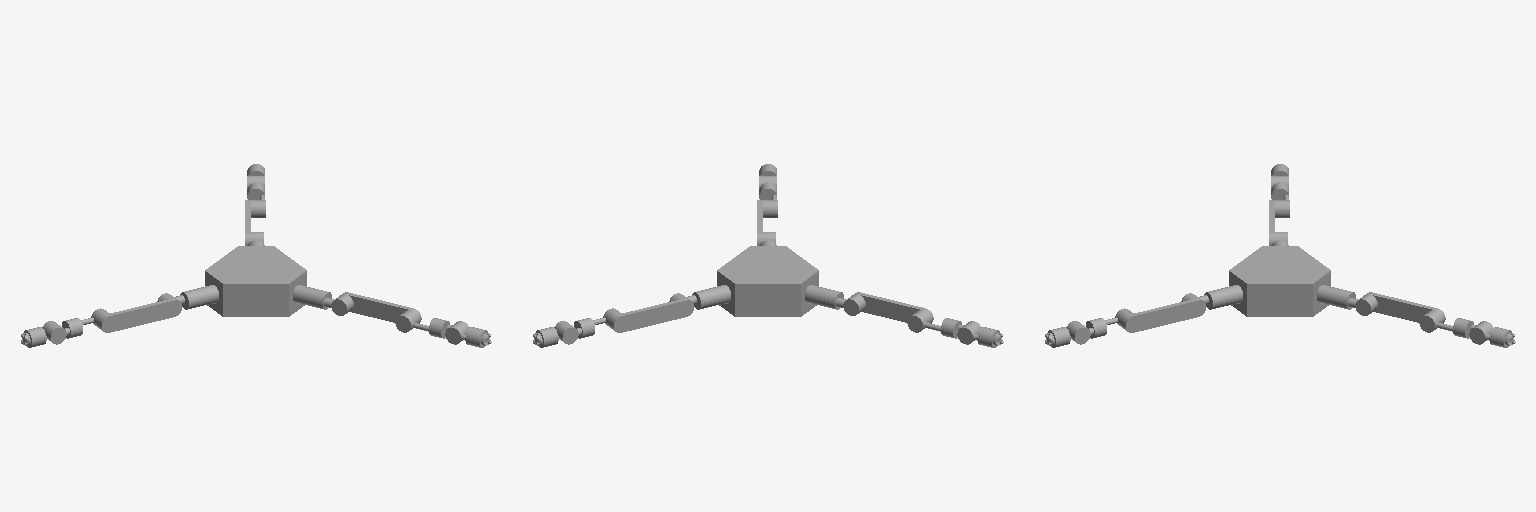
--- What the picture shows (computed from the rendered views, not written in the file) ---
Views: 3 orthographic renders of the robot side by side, from view 1: azimuth 30°, elevation 25°; view 2: azimuth 150°, elevation 25°; view 3: azimuth 270°, elevation 25°.
Model simplified_df_bot with 23 links and 22 joints (18 revolute, 4 fixed), rooted at dummy_link, posed all joints at 0.
Links seen in each view (by area): view 1: base_link, link_02_1, link_02__1__1, link_03__1__1, link_01__1__1; view 2: base_link, link_02__2__1, link_02_1, link_03_1, link_01_1; view 3: base_link, link_02__1__1, link_02__2__1, link_03__2__1, link_01__2__1.
Link boxes in pixels (x1=…): base_link: x1=205, y1=246, x2=306, y2=316; link_02_1: x1=97, y1=297, x2=181, y2=332; link_02__1__1: x1=340, y1=292, x2=421, y2=323; link_03__1__1: x1=395, y1=312, x2=441, y2=336; link_01__1__1: x1=318, y1=291, x2=351, y2=315; base_link: x1=717, y1=246, x2=818, y2=316; link_02__2__1: x1=609, y1=297, x2=693, y2=332; link_02_1: x1=852, y1=292, x2=933, y2=323; link_03_1: x1=907, y1=312, x2=953, y2=336; link_01_1: x1=830, y1=291, x2=863, y2=315; base_link: x1=1229, y1=246, x2=1330, y2=316; link_02__1__1: x1=1121, y1=297, x2=1205, y2=332; link_02__2__1: x1=1364, y1=292, x2=1445, y2=323; link_03__2__1: x1=1419, y1=312, x2=1465, y2=336; link_01__2__1: x1=1342, y1=291, x2=1375, y2=315.
Bounding box of the posed robot: 2.24 × 2.58 × 0.2 m (x, y, z).
Meshes: 22 distinct files referenced, 22 mesh visuals loaded (22 binary STL).

The robot description file, URDF, robot "simplified_df_bot":
<?xml version="1.0" ?>
<!-- =================================================================================== -->
<!-- |    This document was autogenerated by xacro from [local-path]/irp_ws/src/simplified_df_bot_description/urdf/simplified_df_bot.xacro | -->
<!-- |    EDITING THIS FILE BY HAND IS NOT RECOMMENDED                                 | -->
<!-- =================================================================================== -->
<robot name="simplified_df_bot">
    <material name="silver">
        <color rgba="0.700 0.700 0.700 1.000" />
    </material>
    <transmission name="arm_01_joint_01_tran">
        <type>transmission_interface/SimpleTransmission</type>
        <joint name="arm_01_joint_01">
            <hardwareInterface>hardware_interface/PositionJointInterface</hardwareInterface>
        </joint>
        <actuator name="arm_01_joint_01_actr">
            <hardwareInterface>hardware_interface/PositionJointInterface</hardwareInterface>
            <mechanicalReduction>1</mechanicalReduction>
        </actuator>
    </transmission>
    <transmission name="arm_01_joint_03_tran">
        <type>transmission_interface/SimpleTransmission</type>
        <joint name="arm_01_joint_03">
            <hardwareInterface>hardware_interface/PositionJointInterface</hardwareInterface>
        </joint>
        <actuator name="arm_01_joint_03_actr">
            <hardwareInterface>hardware_interface/PositionJointInterface</hardwareInterface>
            <mechanicalReduction>1</mechanicalReduction>
        </actuator>
    </transmission>
    <transmission name="arm_01_joint_04_tran">
        <type>transmission_interface/SimpleTransmission</type>
        <joint name="arm_01_joint_04">
            <hardwareInterface>hardware_interface/PositionJointInterface</hardwareInterface>
        </joint>
        <actuator name="arm_01_joint_04_actr">
            <hardwareInterface>hardware_interface/PositionJointInterface</hardwareInterface>
            <mechanicalReduction>1</mechanicalReduction>
        </actuator>
    </transmission>
    <transmission name="arm_01_joint_05_tran">
        <type>transmission_interface/SimpleTransmission</type>
        <joint name="arm_01_joint_05">
            <hardwareInterface>hardware_interface/PositionJointInterface</hardwareInterface>
        </joint>
        <actuator name="arm_01_joint_05_actr">
            <hardwareInterface>hardware_interface/PositionJointInterface</hardwareInterface>
            <mechanicalReduction>1</mechanicalReduction>
        </actuator>
    </transmission>
    <transmission name="arm_01_joint_06_tran">
        <type>transmission_interface/SimpleTransmission</type>
        <joint name="arm_01_joint_06">
            <hardwareInterface>hardware_interface/PositionJointInterface</hardwareInterface>
        </joint>
        <actuator name="arm_01_joint_06_actr">
            <hardwareInterface>hardware_interface/PositionJointInterface</hardwareInterface>
            <mechanicalReduction>1</mechanicalReduction>
        </actuator>
    </transmission>
    <transmission name="arm_01_joint_02_tran">
        <type>transmission_interface/SimpleTransmission</type>
        <joint name="arm_01_joint_02">
            <hardwareInterface>hardware_interface/PositionJointInterface</hardwareInterface>
        </joint>
        <actuator name="arm_01_joint_02_actr">
            <hardwareInterface>hardware_interface/PositionJointInterface</hardwareInterface>
            <mechanicalReduction>1</mechanicalReduction>
        </actuator>
    </transmission>
    <!-- this part is new -->
    <!-- <transmission name="arm_01_joint_01_tran">
  <type>transmission_interface/SimpleTransmission</type>
  <joint name="arm_01_joint_01">
    <hardwareInterface>hardware_interface/EffortJointInterface</hardwareInterface>
  </joint>
  <actuator name="arm_01_joint_01_actr">
    <hardwareInterface>hardware_interface/EffortJointInterface</hardwareInterface>
    <mechanicalReduction>1</mechanicalReduction>
  </actuator>
</transmission>

<transmission name="arm_01_joint_03_tran">
  <type>transmission_interface/SimpleTransmission</type>
  <joint name="arm_01_joint_03">
    <hardwareInterface>hardware_interface/EffortJointInterface</hardwareInterface>
  </joint>
  <actuator name="arm_01_joint_03_actr">
    <hardwareInterface>hardware_interface/EffortJointInterface</hardwareInterface>
    <mechanicalReduction>1</mechanicalReduction>
  </actuator>
</transmission>

<transmission name="arm_01_joint_04_tran">
  <type>transmission_interface/SimpleTransmission</type>
  <joint name="arm_01_joint_04">
    <hardwareInterface>hardware_interface/EffortJointInterface</hardwareInterface>
  </joint>
  <actuator name="arm_01_joint_04_actr">
    <hardwareInterface>hardware_interface/EffortJointInterface</hardwareInterface>
    <mechanicalReduction>1</mechanicalReduction>
  </actuator>
</transmission>

<transmission name="arm_01_joint_05_tran">
  <type>transmission_interface/SimpleTransmission</type>
  <joint name="arm_01_joint_05">
    <hardwareInterface>hardware_interface/EffortJointInterface</hardwareInterface>
  </joint>
  <actuator name="arm_01_joint_05_actr">
    <hardwareInterface>hardware_interface/EffortJointInterface</hardwareInterface>
    <mechanicalReduction>1</mechanicalReduction>
  </actuator>
</transmission>

<transmission name="arm_01_joint_06_tran">
  <type>transmission_interface/SimpleTransmission</type>
  <joint name="arm_01_joint_06">
    <hardwareInterface>hardware_interface/EffortJointInterface</hardwareInterface>
  </joint>
  <actuator name="arm_01_joint_06_actr">
    <hardwareInterface>hardware_interface/EffortJointInterface</hardwareInterface>
    <mechanicalReduction>1</mechanicalReduction>
  </actuator>
</transmission>

<transmission name="arm_01_joint_02_tran">
  <type>transmission_interface/SimpleTransmission</type>
  <joint name="arm_01_joint_02">
    <hardwareInterface>hardware_interface/EffortJointInterface</hardwareInterface>
  </joint>
  <actuator name="arm_01_joint_02_actr">
    <hardwareInterface>hardware_interface/EffortJointInterface</hardwareInterface>
    <mechanicalReduction>1</mechanicalReduction>
  </actuator>
</transmission> -->
    <!-- till here is new -->
    <transmission name="arm_02_joint_01_tran">
        <type>transmission_interface/SimpleTransmission</type>
        <joint name="arm_02_joint_01">
            <hardwareInterface>hardware_interface/PositionJointInterface</hardwareInterface>
        </joint>
        <actuator name="arm_02_joint_01_actr">
            <hardwareInterface>hardware_interface/PositionJointInterface</hardwareInterface>
            <mechanicalReduction>1</mechanicalReduction>
        </actuator>
    </transmission>
    <transmission name="arm_02_joint_02_tran">
        <type>transmission_interface/SimpleTransmission</type>
        <joint name="arm_02_joint_02">
            <hardwareInterface>hardware_interface/PositionJointInterface</hardwareInterface>
        </joint>
        <actuator name="arm_02_joint_02_actr">
            <hardwareInterface>hardware_interface/PositionJointInterface</hardwareInterface>
            <mechanicalReduction>1</mechanicalReduction>
        </actuator>
    </transmission>
    <transmission name="arm_02_joint_03_tran">
        <type>transmission_interface/SimpleTransmission</type>
        <joint name="arm_02_joint_03">
            <hardwareInterface>hardware_interface/PositionJointInterface</hardwareInterface>
        </joint>
        <actuator name="arm_02_joint_03_actr">
            <hardwareInterface>hardware_interface/PositionJointInterface</hardwareInterface>
            <mechanicalReduction>1</mechanicalReduction>
        </actuator>
    </transmission>
    <transmission name="arm_02_joint_04_tran">
        <type>transmission_interface/SimpleTransmission</type>
        <joint name="arm_02_joint_04">
            <hardwareInterface>hardware_interface/PositionJointInterface</hardwareInterface>
        </joint>
        <actuator name="arm_02_joint_04_actr">
            <hardwareInterface>hardware_interface/PositionJointInterface</hardwareInterface>
            <mechanicalReduction>1</mechanicalReduction>
        </actuator>
    </transmission>
    <transmission name="arm_02_joint_05_tran">
        <type>transmission_interface/SimpleTransmission</type>
        <joint name="arm_02_joint_05">
            <hardwareInterface>hardware_interface/PositionJointInterface</hardwareInterface>
        </joint>
        <actuator name="arm_02_joint_05_actr">
            <hardwareInterface>hardware_interface/PositionJointInterface</hardwareInterface>
            <mechanicalReduction>1</mechanicalReduction>
        </actuator>
    </transmission>
    <transmission name="arm_02_joint_06_tran">
        <type>transmission_interface/SimpleTransmission</type>
        <joint name="arm_02_joint_06">
            <hardwareInterface>hardware_interface/PositionJointInterface</hardwareInterface>
        </joint>
        <actuator name="arm_02_joint_06_actr">
            <hardwareInterface>hardware_interface/PositionJointInterface</hardwareInterface>
            <mechanicalReduction>1</mechanicalReduction>
        </actuator>
    </transmission>
    <transmission name="arm_03_joint_01_tran">
        <type>transmission_interface/SimpleTransmission</type>
        <joint name="arm_03_joint_01">
            <hardwareInterface>hardware_interface/PositionJointInterface</hardwareInterface>
        </joint>
        <actuator name="arm_03_joint_01_actr">
            <hardwareInterface>hardware_interface/PositionJointInterface</hardwareInterface>
            <mechanicalReduction>1</mechanicalReduction>
        </actuator>
    </transmission>
    <transmission name="arm_03_joint_02_tran">
        <type>transmission_interface/SimpleTransmission</type>
        <joint name="arm_03_joint_02">
            <hardwareInterface>hardware_interface/PositionJointInterface</hardwareInterface>
        </joint>
        <actuator name="arm_03_joint_02_actr">
            <hardwareInterface>hardware_interface/PositionJointInterface</hardwareInterface>
            <mechanicalReduction>1</mechanicalReduction>
        </actuator>
    </transmission>
    <transmission name="arm_03_joint_03_tran">
        <type>transmission_interface/SimpleTransmission</type>
        <joint name="arm_03_joint_03">
            <hardwareInterface>hardware_interface/PositionJointInterface</hardwareInterface>
        </joint>
        <actuator name="arm_03_joint_03_actr">
            <hardwareInterface>hardware_interface/PositionJointInterface</hardwareInterface>
            <mechanicalReduction>1</mechanicalReduction>
        </actuator>
    </transmission>
    <transmission name="arm_03_joint_04_tran">
        <type>transmission_interface/SimpleTransmission</type>
        <joint name="arm_03_joint_04">
            <hardwareInterface>hardware_interface/PositionJointInterface</hardwareInterface>
        </joint>
        <actuator name="arm_03_joint_04_actr">
            <hardwareInterface>hardware_interface/PositionJointInterface</hardwareInterface>
            <mechanicalReduction>1</mechanicalReduction>
        </actuator>
    </transmission>
    <transmission name="arm_03_joint_05_tran">
        <type>transmission_interface/SimpleTransmission</type>
        <joint name="arm_03_joint_05">
            <hardwareInterface>hardware_interface/PositionJointInterface</hardwareInterface>
        </joint>
        <actuator name="arm_03_joint_05_actr">
            <hardwareInterface>hardware_interface/PositionJointInterface</hardwareInterface>
            <mechanicalReduction>1</mechanicalReduction>
        </actuator>
    </transmission>
    <transmission name="arm_03_joint_06_tran">
        <type>transmission_interface/SimpleTransmission</type>
        <joint name="arm_03_joint_06">
            <hardwareInterface>hardware_interface/PositionJointInterface</hardwareInterface>
        </joint>
        <actuator name="arm_03_joint_06_actr">
            <hardwareInterface>hardware_interface/PositionJointInterface</hardwareInterface>
            <mechanicalReduction>1</mechanicalReduction>
        </actuator>
    </transmission>
    <gazebo>
        <plugin filename="libgazebo_ros_control.so" name="control">
            <robotNamespace>/</robotNamespace>
        </plugin>
        <plugin name="gazebo_ros_control">
            <robotNamespace>/</robotNamespace>
        </plugin>
    </gazebo>
    <!-- <gazebo>
  <plugin name="control" filename="libgazebo_ros_control.so">
    <robotNamespace>/</robotNamespace>
    <robotSimType>gazebo_ros_control/DefaultRobotHWSim</robotSimType>
  </plugin>
</gazebo> -->
    <gazebo reference="base_link">
        <material>Gazebo/Silver</material>
        <mu1>0.2</mu1>
        <mu2>0.2</mu2>
        <selfCollide>true</selfCollide>
        <gravity>true</gravity>
    </gazebo>
    <gazebo reference="link_06_1">
        <material>Gazebo/Silver</material>
        <mu1>0.2</mu1>
        <mu2>0.2</mu2>
        <selfCollide>true</selfCollide>
    </gazebo>
    <gazebo reference="link_04_1">
        <material>Gazebo/Silver</material>
        <mu1>0.2</mu1>
        <mu2>0.2</mu2>
        <selfCollide>true</selfCollide>
    </gazebo>
    <gazebo reference="link_03_1">
        <material>Gazebo/Silver</material>
        <mu1>0.2</mu1>
        <mu2>0.2</mu2>
        <selfCollide>true</selfCollide>
    </gazebo>
    <gazebo reference="link_02_1">
        <material>Gazebo/Silver</material>
        <mu1>0.2</mu1>
        <mu2>0.2</mu2>
        <selfCollide>true</selfCollide>
    </gazebo>
    <gazebo reference="link_01_1">
        <material>Gazebo/Silver</material>
        <mu1>0.2</mu1>
        <mu2>0.2</mu2>
        <selfCollide>true</selfCollide>
    </gazebo>
    <gazebo reference="link_00_1">
        <material>Gazebo/Silver</material>
        <mu1>0.2</mu1>
        <mu2>0.2</mu2>
        <selfCollide>true</selfCollide>
    </gazebo>
    <gazebo reference="link_05_1">
        <material>Gazebo/Silver</material>
        <mu1>0.2</mu1>
        <mu2>0.2</mu2>
        <selfCollide>true</selfCollide>
    </gazebo>
    <gazebo reference="link_06__2__1">
        <material>Gazebo/Silver</material>
        <mu1>0.2</mu1>
        <mu2>0.2</mu2>
        <selfCollide>true</selfCollide>
    </gazebo>
    <gazebo reference="link_05__2__1">
        <material>Gazebo/Silver</material>
        <mu1>0.2</mu1>
        <mu2>0.2</mu2>
        <selfCollide>true</selfCollide>
    </gazebo>
    <gazebo reference="link_04__2__1">
        <material>Gazebo/Silver</material>
        <mu1>0.2</mu1>
        <mu2>0.2</mu2>
        <selfCollide>true</selfCollide>
    </gazebo>
    <gazebo reference="link_03__2__1">
        <material>Gazebo/Silver</material>
        <mu1>0.2</mu1>
        <mu2>0.2</mu2>
        <selfCollide>true</selfCollide>
    </gazebo>
    <gazebo reference="link_02__2__1">
        <material>Gazebo/Silver</material>
        <mu1>0.2</mu1>
        <mu2>0.2</mu2>
        <selfCollide>true</selfCollide>
    </gazebo>
    <gazebo reference="link_01__2__1">
        <material>Gazebo/Silver</material>
        <mu1>0.2</mu1>
        <mu2>0.2</mu2>
        <selfCollide>true</selfCollide>
    </gazebo>
    <gazebo reference="link_00__2__1">
        <material>Gazebo/Silver</material>
        <mu1>0.2</mu1>
        <mu2>0.2</mu2>
        <selfCollide>true</selfCollide>
    </gazebo>
    <gazebo reference="link_06__1__1">
        <material>Gazebo/Silver</material>
        <mu1>0.2</mu1>
        <mu2>0.2</mu2>
        <selfCollide>true</selfCollide>
    </gazebo>
    <gazebo reference="link_05__1__1">
        <material>Gazebo/Silver</material>
        <mu1>0.2</mu1>
        <mu2>0.2</mu2>
        <selfCollide>true</selfCollide>
    </gazebo>
    <gazebo reference="link_04__1__1">
        <material>Gazebo/Silver</material>
        <mu1>0.2</mu1>
        <mu2>0.2</mu2>
        <selfCollide>true</selfCollide>
    </gazebo>
    <gazebo reference="link_03__1__1">
        <material>Gazebo/Silver</material>
        <mu1>0.2</mu1>
        <mu2>0.2</mu2>
        <selfCollide>true</selfCollide>
    </gazebo>
    <gazebo reference="link_02__1__1">
        <material>Gazebo/Silver</material>
        <mu1>0.2</mu1>
        <mu2>0.2</mu2>
        <selfCollide>true</selfCollide>
    </gazebo>
    <gazebo reference="link_01__1__1">
        <material>Gazebo/Silver</material>
        <mu1>0.2</mu1>
        <mu2>0.2</mu2>
        <selfCollide>true</selfCollide>
    </gazebo>
    <gazebo reference="link_00__1__1">
        <material>Gazebo/Silver</material>
        <mu1>0.2</mu1>
        <mu2>0.2</mu2>
        <selfCollide>true</selfCollide>
    </gazebo>
    <!-- <link name="world" >
  <joint name="base_joint" type="fixed">
    <parent link="world"/>
    <child link="base_link"/>
    <origin rpy="0 0 0" xyz="0.0 0.0 0.0"/>
  </joint> -->
    <!--  -->
    <link name="dummy_link">
        <visual>
            <geometry>
                <!-- <sphere radius="0.1"/> -->
            </geometry>
        </visual>
        <collision>
            <geometry>
                <cylinder length="0.05" radius="0.1" />
            </geometry>
        </collision>
        <inertial>
            <mass value="0.1" />
            <origin xyz="0 0 0" rpy="0 0 0" />
            <inertia ixx="0.03" iyy="0.03" izz="0.03" ixy="0.0" ixz="0.0" iyz="0.0" />
        </inertial>
    </link>
    <!-- <joint name="dummy_joint" type="fixed">
  <origin rpy="0 0 0" xyz="0.0 0.0 0.0"/>
  <parent link="world"/>
  <child link="dummy_link"/>
</joint> -->
    <!--  -->
    <link name="base_link">
        <inertial>
            <origin rpy="0 0 0" xyz="5.882906319182324e-17 1.7648718957546974e-16 0.1" />
            <mass value="20.0" />
            <inertia ixx="0.0" ixy="0.0" ixz="0.0" iyy="0.0" iyz="0.0" izz="0.0" />
        </inertial>
        <visual>
            <origin rpy="0 0 0" xyz="0 0 0" />
            <geometry>
                <mesh filename="package://simplified_df_bot_description/meshes/base_link.stl" scale="0.001 0.001 0.001" />
            </geometry>
            <material name="silver" />
        </visual>
        <collision>
            <origin rpy="0 0 0" xyz="0 0 0" />
            <geometry>
                <mesh filename="package://simplified_df_bot_description/meshes/base_link.stl" scale="0.001 0.001 0.001" />
            </geometry>
        </collision>
    </link>
    <joint name="dummy_joint" type="fixed">
        <origin rpy="0 0 0" xyz="0.0 0.0 0.0" />
        <parent link="dummy_link" />
        <child link="base_link" />
    </joint>
    <!-- <link name="base_link">
  <inertial>
    <origin xyz="5.882906319182324e-17 1.7648718957546974e-16 0.1" rpy="0 0 0"/>
    <mass value="310.68326665737465"/>
    <inertia ixx="6.072348" iyy="6.072348" izz="10.072002" ixy="0.0" iyz="0.0" ixz="-0.0"/>
  </inertial>
  <visual>
    <origin xyz="0 0 0" rpy="0 0 0"/>
    <geometry>
      <mesh filename="package://simplified_df_bot_description/meshes/base_link.stl" scale="0.001 0.001 0.001"/>
    </geometry>
    <material name="silver"/>
  </visual>
  <collision>
    <origin xyz="0 0 0" rpy="0 0 0"/>
    <geometry>
      <mesh filename="package://simplified_df_bot_description/meshes/base_link.stl" scale="0.001 0.001 0.001"/>
    </geometry>
  </collision>
</link> -->
    <link name="link_06_1">
        <inertial>
            <origin rpy="0 0 0" xyz="-0.0368464821240182 -1.9921731365252215e-12 5.978111764379235e-06" />
            <mass value="4.433293446694715" />
            <inertia ixx="0.005127" ixy="-0.0" ixz="1e-06" iyy="0.004764" iyz="-0.0" izz="0.004765" />
        </inertial>
        <visual>
            <origin rpy="0 0 0" xyz="1.380581 -0.001 -0.1" />
            <geometry>
                <mesh filename="package://simplified_df_bot_description/meshes/link_06_1.stl" scale="0.001 0.001 0.001" />
            </geometry>
            <material name="silver" />
        </visual>
        <collision>
            <origin rpy="0 0 0" xyz="1.380581 -0.001 -0.1" />
            <geometry>
                <mesh filename="package://simplified_df_bot_description/meshes/link_06_1.stl" scale="0.001 0.001 0.001" />
            </geometry>
        </collision>
    </link>
    <link name="link_04_1">
        <inertial>
            <origin rpy="0 0 0" xyz="-0.07035754856740128 -0.016104742060408204 1.517665215770847e-05" />
            <mass value="5.1993600993385725" />
            <inertia ixx="0.00568" ixy="-0.00256" ixz="-2e-06" iyy="0.014947" iyz="1e-06" izz="0.014406" />
        </inertial>
        <visual>
            <origin rpy="0 0 0" xyz="1.168781 -0.001 -0.1" />
            <geometry>
                <mesh filename="package://simplified_df_bot_description/meshes/link_04_1.stl" scale="0.001 0.001 0.001" />
            </geometry>
            <material name="silver" />
        </visual>
        <collision>
            <origin rpy="0 0 0" xyz="1.168781 -0.001 -0.1" />
            <geometry>
                <mesh filename="package://simplified_df_bot_description/meshes/link_04_1.stl" scale="0.001 0.001 0.001" />
            </geometry>
        </collision>
    </link>
    <link name="link_03_1">
        <inertial>
            <origin rpy="0 0 0" xyz="-0.08504656906945252 0.02100756029421222 -2.581268532253489e-15" />
            <mass value="7.386447086800841" />
            <inertia ixx="0.008529" ixy="-0.007036" ixz="-0.0" iyy="0.064617" iyz="-0.0" izz="0.0646" />
        </inertial>
        <visual>
            <origin rpy="0 0 0" xyz="0.960381 0.0054 -0.1" />
            <geometry>
                <mesh filename="package://simplified_df_bot_description/meshes/link_03_1.stl" scale="0.001 0.001 0.001" />
            </geometry>
            <material name="silver" />
        </visual>
        <collision>
            <origin rpy="0 0 0" xyz="0.960381 0.0054 -0.1" />
            <geometry>
                <mesh filename="package://simplified_df_bot_description/meshes/link_03_1.stl" scale="0.001 0.001 0.001" />
            </geometry>
        </collision>
    </link>
    <link name="link_02_1">
        <inertial>
            <origin rpy="0 0 0" xyz="-0.20500012382722788 -0.03418871169382212 -1.582067810090848e-15" />
            <mass value="14.58780046613597" />
            <inertia ixx="0.013991" ixy="0.0" ixz="-0.0" iyy="0.372842" iyz="-0.0" izz="0.364575" />
        </inertial>
        <visual>
            <origin rpy="0 0 0" xyz="0.550381 0.0054 -0.1" />
            <geometry>
                <mesh filename="package://simplified_df_bot_description/meshes/link_02_1.stl" scale="0.001 0.001 0.001" />
            </geometry>
            <material name="silver" />
        </visual>
        <collision>
            <origin rpy="0 0 0" xyz="0.550381 0.0054 -0.1" />
            <geometry>
                <mesh filename="package://simplified_df_bot_description/meshes/link_02_1.stl" scale="0.001 0.001 0.001" />
            </geometry>
        </collision>
    </link>
    <link name="link_01_1">
        <inertial>
            <origin rpy="0 0 0" xyz="-0.0817064051027378 0.01324350415807088 6.394912474561032e-09" />
            <mass value="5.703213948140757" />
            <inertia ixx="0.005605" ixy="0.002418" ixz="-0.0" iyy="0.020934" iyz="0.0" izz="0.020125" />
        </inertial>
        <visual>
            <origin rpy="0 0 0" xyz="0.421981 -0.0 -0.1" />
            <geometry>
                <mesh filename="package://simplified_df_bot_description/meshes/link_01_1.stl" scale="0.001 0.001 0.001" />
            </geometry>
            <material name="silver" />
        </visual>
        <collision>
            <origin rpy="0 0 0" xyz="0.421981 -0.0 -0.1" />
            <geometry>
                <mesh filename="package://simplified_df_bot_description/meshes/link_01_1.stl" scale="0.001 0.001 0.001" />
            </geometry>
        </collision>
    </link>
    <link name="link_00_1">
        <inertial>
            <origin rpy="0 0 0" xyz="-0.07820012382722791 0.0 -2.498001805406602e-16" />
            <mass value="9.642647411295828" />
            <inertia ixx="0.0" ixy="0.0" ixz="-0.0" iyy="0.0" iyz="0.0" izz="0.0" />
        </inertial>
        <visual>
            <origin rpy="0 0 0" xyz="0.265581 -0.0 -0.1" />
            <geometry>
                <mesh filename="package://simplified_df_bot_description/meshes/link_00_1.stl" scale="0.001 0.001 0.001" />
            </geometry>
            <material name="silver" />
        </visual>
        <collision>
            <origin rpy="0 0 0" xyz="0.265581 -0.0 -0.1" />
            <geometry>
                <mesh filename="package://simplified_df_bot_description/meshes/link_00_1.stl" scale="0.001 0.001 0.001" />
            </geometry>
        </collision>
    </link>
    <link name="link_05_1">
        <inertial>
            <origin rpy="0 0 0" xyz="-0.03500375445159021 0.01621486227236766 -3.469446951953614e-15" />
            <mass value="5.095887797721418" />
            <inertia ixx="0.005678" ixy="-0.002544" ixz="0.0" iyy="0.014849" iyz="-0.0" izz="0.01434" />
        </inertial>
        <visual>
            <origin rpy="0 0 0" xyz="1.274681 -0.001 -0.1" />
            <geometry>
                <mesh filename="package://simplified_df_bot_description/meshes/link_05_1.stl" scale="0.001 0.001 0.001" />
            </geometry>
            <material name="silver" />
        </visual>
        <collision>
            <origin rpy="0 0 0" xyz="1.274681 -0.001 -0.1" />
            <geometry>
                <mesh filename="package://simplified_df_bot_description/meshes/link_05_1.stl" scale="0.001 0.001 0.001" />
            </geometry>
        </collision>
    </link>
    <link name="link_06__2__1">
        <inertial>
            <origin rpy="0 0 0" xyz="0.018422748032258074 0.031910175113788464 5.972981881374739e-06" />
            <mass value="4.433289377409054" />
            <inertia ixx="0.004855" ixy="0.000157" ixz="-0.0" iyy="0.005036" iyz="-1e-06" izz="0.004765" />
        </inertial>
        <visual>
            <origin rpy="0 0 0" xyz="-0.691157 -1.195118 -0.1" />
            <geometry>
                <mesh filename="package://simplified_df_bot_description/meshes/link_06__2__1.stl" scale="0.001 0.001 0.001" />
            </geometry>
            <material name="silver" />
        </visual>
        <collision>
            <origin rpy="0 0 0" xyz="-0.691157 -1.195118 -0.1" />
            <geometry>
                <mesh filename="package://simplified_df_bot_description/meshes/link_06__2__1.stl" scale="0.001 0.001 0.001" />
            </geometry>
        </collision>
    </link>
    <link name="link_05__2__1">
        <inertial>
            <origin rpy="0 0 0" xyz="0.03154387842340445 0.022206825440708178 -3.4833247397614286e-15" />
            <mass value="5.095883275701127" />
            <inertia ixx="0.014759" ixy="-0.002699" ixz="0.0" iyy="0.005767" iyz="0.0" izz="0.01434" />
        </inertial>
        <visual>
            <origin rpy="0 0 0" xyz="-0.638207 -1.103406 -0.1" />
            <geometry>
                <mesh filename="package://simplified_df_bot_description/meshes/link_05__2__1.stl" scale="0.001 0.001 0.001" />
            </geometry>
            <material name="silver" />
        </visual>
        <collision>
            <origin rpy="0 0 0" xyz="-0.638207 -1.103406 -0.1" />
            <geometry>
                <mesh filename="package://simplified_df_bot_description/meshes/link_05__2__1.stl" scale="0.001 0.001 0.001" />
            </geometry>
        </collision>
    </link>
    <link name="link_04__2__1">
        <inertial>
            <origin rpy="0 0 0" xyz="0.021231352414371685 0.06898390276936062 1.5131972715756725e-05" />
            <mass value="5.1992956413018465" />
            <inertia ixx="0.014848" ixy="-0.002733" ixz="2e-06" iyy="0.00578" iyz="1e-06" izz="0.014406" />
        </inertial>
        <visual>
            <origin rpy="0 0 0" xyz="-0.585257 -1.011694 -0.1" />
            <geometry>
                <mesh filename="package://simplified_df_bot_description/meshes/link_04__2__1.stl" scale="0.001 0.001 0.001" />
            </geometry>
            <material name="silver" />
        </visual>
        <collision>
            <origin rpy="0 0 0" xyz="-0.585257 -1.011694 -0.1" />
            <geometry>
                <mesh filename="package://simplified_df_bot_description/meshes/link_04__2__1.stl" scale="0.001 0.001 0.001" />
            </geometry>
        </collision>
    </link>
    <link name="link_03__2__1">
        <inertial>
            <origin rpy="0 0 0" xyz="0.06071632833346885 0.06314905250668756 -2.581268532253489e-15" />
            <mass value="7.3864471129496785" />
            <inertia ixx="0.056688" ixy="-0.020769" ixz="0.0" iyy="0.016458" iyz="0.0" izz="0.0646" />
        </inertial>
        <visual>
            <origin rpy="0 0 0" xyz="-0.475514 -0.834414 -0.1" />
            <geometry>
                <mesh filename="package://simplified_df_bot_description/meshes/link_03__2__1.stl" scale="0.001 0.001 0.001" />
            </geometry>
            <material name="silver" />
        </visual>
        <collision>
            <origin rpy="0 0 0" xyz="-0.475514 -0.834414 -0.1" />
            <geometry>
                <mesh filename="package://simplified_df_bot_description/meshes/link_03__2__1.stl" scale="0.001 0.001 0.001" />
            </geometry>
        </collision>
    </link>
    <link name="link_02__2__1">
        <inertial>
            <origin rpy="0 0 0" xyz="0.07289173188366727 0.1946295986205281 -1.1921019726912618e-14" />
            <mass value="14.587800466132698" />
            <inertia ixx="0.283129" ixy="-0.155387" ixz="-0.0" iyy="0.103704" iyz="0.0" izz="0.364575" />
        </inertial>
        <visual>
            <origin rpy="0 0 0" xyz="-0.270514 -0.479344 -0.1" />
            <geometry>
                <mesh filename="package://simplified_df_bot_description/meshes/link_02__2__1.stl" scale="0.001 0.001 0.001" />
            </geometry>
            <material name="silver" />
        </visual>
        <collision>
            <origin rpy="0 0 0" xyz="-0.270514 -0.479344 -0.1" />
            <geometry>
                <mesh filename="package://simplified_df_bot_description/meshes/link_02__2__1.stl" scale="0.001 0.001 0.001" />
            </geometry>
        </collision>
    </link>
    <link name="link_01__2__1">
        <inertial>
            <origin rpy="0 0 0" xyz="0.052321921723608805 0.06413833577473343 -8.049116928532385e-16" />
            <mass value="5.703213064083743" />
            <inertia ixx="0.015007" ixy="-0.007847" ixz="-0.0" iyy="0.011531" iyz="-0.0" izz="0.020125" />
        </inertial>
        <visual>
            <origin rpy="0 0 0" xyz="-0.210991 -0.365446 -0.1" />
            <geometry>
                <mesh filename="package://simplified_df_bot_description/meshes/link_01__2__1.stl" scale="0.001 0.001 0.001" />
            </geometry>
            <material name="silver" />
        </visual>
        <collision>
            <origin rpy="0 0 0" xyz="-0.210991 -0.365446 -0.1" />
            <geometry>
                <mesh filename="package://simplified_df_bot_description/meshes/link_01__2__1.stl" scale="0.001 0.001 0.001" />
            </geometry>
        </collision>
    </link>
    <link name="link_00__2__1">
        <inertial>
            <origin rpy="0 0 0" xyz="0.03909956191361422 0.0677231865759432 -2.7755575615628914e-16" />
            <mass value="9.642647411295828" />
            <inertia ixx="0.0" ixy="0.0" ixz="0.0" iyy="0.0" iyz="0.0" izz="0.0" />
        </inertial>
        <visual>
            <origin rpy="0 0 0" xyz="-0.132791 -0.23 -0.1" />
            <geometry>
                <mesh filename="package://simplified_df_bot_description/meshes/link_00__2__1.stl" scale="0.001 0.001 0.001" />
            </geometry>
            <material name="silver" />
        </visual>
        <collision>
            <origin rpy="0 0 0" xyz="-0.132791 -0.23 -0.1" />
            <geometry>
                <mesh filename="package://simplified_df_bot_description/meshes/link_00__2__1.stl" scale="0.001 0.001 0.001" />
            </geometry>
        </collision>
    </link>
    <link name="link_06__1__1">
        <inertial>
            <origin rpy="0 0 0" xyz="0.01842269661664442 -0.031910175053158074 5.973118036767255e-06" />
            <mass value="4.433289348431792" />
            <inertia ixx="0.004855" ixy="-0.000157" ixz="-0.0" iyy="0.005036" iyz="1e-06" izz="0.004765" />
        </inertial>
        <visual>
            <origin rpy="0 0 0" xyz="-0.689425 1.196118 -0.1" />
            <geometry>
                <mesh filename="package://simplified_df_bot_description/meshes/link_06__1__1.stl" scale="0.001 0.001 0.001" />
            </geometry>
            <material name="silver" />
        </visual>
        <collision>
            <origin rpy="0 0 0" xyz="-0.689425 1.196118 -0.1" />
            <geometry>
                <mesh filename="package://simplified_df_bot_description/meshes/link_06__1__1.stl" scale="0.001 0.001 0.001" />
            </geometry>
        </collision>
    </link>
    <link name="link_05__1__1">
        <inertial>
            <origin rpy="0 0 0" xyz="0.0034588624455299533 -0.03842168764196496 -3.4833247397614286e-15" />
            <mass value="5.0958832757011345" />
            <inertia ixx="0.010353" ixy="0.005243" ixz="-0.0" iyy="0.010174" iyz="0.0" izz="0.01434" />
        </inertial>
        <visual>
            <origin rpy="0 0 0" xyz="-0.636475 1.104406 -0.1" />
            <geometry>
                <mesh filename="package://simplified_df_bot_description/meshes/link_05__1__1.stl" scale="0.001 0.001 0.001" />
            </geometry>
            <material name="silver" />
        </visual>
        <collision>
            <origin rpy="0 0 0" xyz="-0.636475 1.104406 -0.1" />
            <geometry>
                <mesh filename="package://simplified_df_bot_description/meshes/link_05__1__1.stl" scale="0.001 0.001 0.001" />
            </geometry>
        </collision>
    </link>
    <link name="link_04__1__1">
        <inertial>
            <origin rpy="0 0 0" xyz="0.04912534284051251 -0.05287927055429176 1.513197271578448e-05" />
            <mass value="5.199295641301849" />
            <inertia ixx="0.010414" ixy="0.005293" ixz="0.0" iyy="0.010214" iyz="-2e-06" izz="0.014406" />
        </inertial>
        <visual>
            <origin rpy="0 0 0" xyz="-0.583525 1.012694 -0.1" />
            <geometry>
                <mesh filename="package://simplified_df_bot_description/meshes/link_04__1__1.stl" scale="0.001 0.001 0.001" />
            </geometry>
            <material name="silver" />
        </visual>
        <collision>
            <origin rpy="0 0 0" xyz="-0.583525 1.012694 -0.1" />
            <geometry>
                <mesh filename="package://simplified_df_bot_description/meshes/link_04__1__1.stl" scale="0.001 0.001 0.001" />
            </geometry>
        </collision>
    </link>
    <link name="link_03__1__1">
        <inertial>
            <origin rpy="0 0 0" xyz="0.02433024080236318 -0.08415661286979792 -2.5951463200613034e-15" />
            <mass value="7.386447112949688" />
            <inertia ixx="0.044502" ixy="0.027805" ixz="-0.0" iyy="0.028644" iyz="0.0" izz="0.0646" />
        </inertial>
        <visual>
            <origin rpy="0 0 0" xyz="-0.484867 0.829014 -0.1" />
            <geometry>
                <mesh filename="package://simplified_df_bot_description/meshes/link_03__1__1.stl" scale="0.001 0.001 0.001" />
            </geometry>
            <material name="silver" />
        </visual>
        <collision>
            <origin rpy="0 0 0" xyz="-0.484867 0.829014 -0.1" />
            <geometry>
                <mesh filename="package://simplified_df_bot_description/meshes/link_03__1__1.stl" scale="0.001 0.001 0.001" />
            </geometry>
        </collision>
    </link>
    <link name="link_02__1__1">
        <inertial>
            <origin rpy="0 0 0" xyz="0.13210839194356055 -0.16044088692670783 -1.189326415129699e-14" />
            <mass value="14.587800466132709" />
            <inertia ixx="0.283129" ixy="0.155387" ixz="0.0" iyy="0.103704" iyz="-0.0" izz="0.364575" />
        </inertial>
        <visual>
            <origin rpy="0 0 0" xyz="-0.279867 0.473944 -0.1" />
            <geometry>
                <mesh filename="package://simplified_df_bot_description/meshes/link_02__1__1.stl" scale="0.001 0.001 0.001" />
            </geometry>
            <material name="silver" />
        </visual>
        <collision>
            <origin rpy="0 0 0" xyz="-0.279867 0.473944 -0.1" />
            <geometry>
                <mesh filename="package://simplified_df_bot_description/meshes/link_02__1__1.stl" scale="0.001 0.001 0.001" />
            </geometry>
        </collision>
    </link>
    <link name="link_01__1__1">
        <inertial>
            <origin rpy="0 0 0" xyz="0.029383486986979207 -0.07738184724471547 -7.632783294297951e-16" />
            <mass value="5.7032130640837435" />
            <inertia ixx="0.019196" ixy="0.005429" ixz="0.0" iyy="0.007343" iyz="-0.0" izz="0.020125" />
        </inertial>
        <visual>
            <origin rpy="0 0 0" xyz="-0.210991 0.365446 -0.1" />
            <geometry>
                <mesh filename="package://simplified_df_bot_description/meshes/link_01__1__1.stl" scale="0.001 0.001 0.001" />
            </geometry>
            <material name="silver" />
        </visual>
        <collision>
            <origin rpy="0 0 0" xyz="-0.210991 0.365446 -0.1" />
            <geometry>
                <mesh filename="package://simplified_df_bot_description/meshes/link_01__1__1.stl" scale="0.001 0.001 0.001" />
            </geometry>
        </collision>
    </link>
    <link name="link_00__1__1">
        <inertial>
            <origin rpy="0 0 0" xyz="0.039099561913613995 -0.06772318657594326 -2.3592239273284576e-16" />
            <mass value="9.642647411295831" />
            <inertia ixx="0.0" ixy="0.0" ixz="0.0" iyy="0.0" iyz="0.0" izz="0.0" />
        </inertial>
        <visual>
            <origin rpy="0 0 0" xyz="-0.132791 0.23 -0.1" />
            <geometry>
                <mesh filename="package://simplified_df_bot_description/meshes/link_00__1__1.stl" scale="0.001 0.001 0.001" />
            </geometry>
            <material name="silver" />
        </visual>
        <collision>
            <origin rpy="0 0 0" xyz="-0.132791 0.23 -0.1" />
            <geometry>
                <mesh filename="package://simplified_df_bot_description/meshes/link_00__1__1.stl" scale="0.001 0.001 0.001" />
            </geometry>
        </collision>
    </link>
    <joint name="arm_01_joint_01" type="revolute">
        <origin rpy="0 0 0" xyz="-0.1059 0.0 0.0" />
        <parent link="link_05_1" />
        <child link="link_06_1" />
        <axis xyz="-1.0 0.0 -0.0" />
        <limit effort="10000" lower="-3.141592" upper="3.141592" velocity="3" />
    </joint>
    <joint name="arm_01_joint_03" type="revolute">
        <origin rpy="0 0 0" xyz="-0.2084 0.0064 0.0" />
        <parent link="link_03_1" />
        <child link="link_04_1" />
        <axis xyz="-1.0 0.0 -0.0" />
        <limit effort="10000" lower="-3.141592" upper="3.141592" velocity="3" />
    </joint>
    <joint name="arm_01_joint_04" type="revolute">
        <origin rpy="0 0 0" xyz="-0.41 0.0 0.0" />
        <parent link="link_02_1" />
        <child link="link_03_1" />
        <axis xyz="0.0 1.0 0.0" />
        <limit effort="10000" lower="-2.530727" upper="2.530727" velocity="3" />
    </joint>
    <joint name="arm_01_joint_05" type="revolute">
        <origin rpy="0 0 0" xyz="-0.1284 -0.0054 0.0" />
        <parent link="link_01_1" />
        <child link="link_02_1" />
        <axis xyz="0.0 1.0 0.0" />
        <limit effort="10000" lower="-2.094395" upper="2.094395" velocity="3" />
    </joint>
    <joint name="arm_01_joint_06" type="revolute">
        <origin rpy="0 0 0" xyz="-0.1564 0.0 0.0" />
        <parent link="link_00_1" />
        <child link="link_01_1" />
        <axis xyz="-1.0 0.0 -0.0" />
        <limit effort="10000" lower="-3.141592" upper="3.141592" velocity="3" />
    </joint>
    <joint name="arm_01_joint_base" type="fixed">
        <origin rpy="0 0 0" xyz="-0.265581 0.0 0.1" />
        <parent link="base_link" />
        <child link="link_00_1" />
    </joint>
    <joint name="arm_01_joint_02" type="revolute">
        <origin rpy="0 0 0" xyz="-0.1059 0.0 0.0" />
        <parent link="link_04_1" />
        <child link="link_05_1" />
        <axis xyz="0.0 1.0 0.0" />
        <limit effort="10000" lower="-1.919862" upper="1.919862" velocity="3" />
    </joint>
    <joint name="arm_02_joint_01" type="revolute">
        <origin rpy="0 0 0" xyz="0.05295 0.091712 0.0" />
        <parent link="link_05__2__1" />
        <child link="link_06__2__1" />
        <axis xyz="0.5 0.866025 -0.0" />
        <limit effort="10000" lower="-3.141592" upper="3.141592" velocity="3" />
    </joint>
    <joint name="arm_02_joint_02" type="revolute">
        <origin rpy="0 0 0" xyz="0.05295 0.091712 0.0" />
        <parent link="link_04__2__1" />
        <child link="link_05__2__1" />
        <axis xyz="0.866025 -0.5 -0.0" />
        <limit effort="10000" lower="-1.919862" upper="1.919862" velocity="3" />
    </joint>
    <joint name="arm_02_joint_03" type="revolute">
        <origin rpy="0 0 0" xyz="0.109743 0.17728 0.0" />
        <parent link="link_03__2__1" />
        <child link="link_04__2__1" />
        <axis xyz="0.5 0.866025 -0.0" />
        <limit effort="10000" lower="-3.141592" upper="3.141592" velocity="3" />
    </joint>
    <joint name="arm_02_joint_04" type="revolute">
        <origin rpy="0 0 0" xyz="0.205 0.35507 0.0" />
        <parent link="link_02__2__1" />
        <child link="link_03__2__1" />
        <axis xyz="0.866025 -0.5 -0.0" />
        <limit effort="10000" lower="-2.530727" upper="2.530727" velocity="3" />
    </joint>
    <joint name="arm_02_joint_05" type="revolute">
        <origin rpy="0 0 0" xyz="0.059523 0.113898 0.0" />
        <parent link="link_01__2__1" />
        <child link="link_02__2__1" />
        <axis xyz="0.866025 -0.5 -0.0" />
        <limit effort="10000" lower="-2.094395" upper="2.094395" velocity="3" />
    </joint>
    <joint name="arm_02_joint_06" type="revolute">
        <origin rpy="0 0 0" xyz="0.0782 0.135446 0.0" />
        <parent link="link_00__2__1" />
        <child link="link_01__2__1" />
        <axis xyz="0.5 0.866025 -0.0" />
        <limit effort="10000" lower="-3.141592" upper="3.141592" velocity="3" />
    </joint>
    <joint name="arm_02_joint_base" type="fixed">
        <origin rpy="0 0 0" xyz="0.132791 0.23 0.1" />
        <parent link="base_link" />
        <child link="link_00__2__1" />
    </joint>
    <joint name="arm_03_joint_01" type="revolute">
        <origin rpy="0 0 0" xyz="0.05295 -0.091712 0.0" />
        <parent link="link_05__1__1" />
        <child link="link_06__1__1" />
        <axis xyz="0.5 -0.866025 -0.0" />
        <limit effort="10000" lower="-3.141592" upper="3.141592" velocity="3" />
    </joint>
    <joint name="arm_03_joint_02" type="revolute">
        <origin rpy="0 0 0" xyz="0.05295 -0.091712 0.0" />
        <parent link="link_04__1__1" />
        <child link="link_05__1__1" />
        <axis xyz="-0.866025 -0.5 -0.0" />
        <limit effort="10000" lower="-1.919862" upper="1.919862" velocity="3" />
    </joint>
    <joint name="arm_03_joint_03" type="revolute">
        <origin rpy="0 0 0" xyz="0.098658 -0.18368 0.0" />
        <parent link="link_03__1__1" />
        <child link="link_04__1__1" />
        <axis xyz="0.5 -0.866025 -0.0" />
        <limit effort="10000" lower="-3.141592" upper="3.141592" velocity="3" />
    </joint>
    <joint name="arm_03_joint_04" type="revolute">
        <origin rpy="0 0 0" xyz="0.205 -0.35507 0.0" />
        <parent link="link_02__1__1" />
        <child link="link_03__1__1" />
        <axis xyz="-0.866025 -0.5 -0.0" />
        <limit effort="10000" lower="-2.530727" upper="2.530727" velocity="3" />
    </joint>
    <joint name="arm_03_joint_05" type="revolute">
        <origin rpy="0 0 0" xyz="0.068876 -0.108498 0.0" />
        <parent link="link_01__1__1" />
        <child link="link_02__1__1" />
        <axis xyz="-0.866025 -0.5 -0.0" />
        <limit effort="10000" lower="-2.094395" upper="2.094395" velocity="3" />
    </joint>
    <joint name="arm_03_joint_06" type="revolute">
        <origin rpy="0 0 0" xyz="0.0782 -0.135446 0.0" />
        <parent link="link_00__1__1" />
        <child link="link_01__1__1" />
        <axis xyz="0.5 -0.866025 -0.0" />
        <limit effort="10000" lower="-3.141592" upper="3.141592" velocity="3" />
    </joint>
    <joint name="arm_03_joint_base" type="fixed">
        <origin rpy="0 0 0" xyz="0.132791 -0.23 0.1" />
        <parent link="base_link" />
        <child link="link_00__1__1" />
    </joint>
    <!-- 
<transmission name="arm_01_joint_01_trans">
  <type>transmission_interface/SimpleTransmission</type>
  <joint name="arm_01_joint_01">
    <hardwareInterface>hardware_interface/PositionJointInterface</hardwareInterface>
  </joint>
  <actuator name="arm_01_joint_01_motor">
    <hardwareInterface>hardware_interface/PositionJointInterface</hardwareInterface>
    <mechanicalReduction>1</mechanicalReduction>
  </actuator>
</transmission>

<transmission name="arm_01_joint_02_trans">
  <type>transmission_interface/SimpleTransmission</type>
  <joint name="arm_01_joint_02">
    <hardwareInterface>hardware_interface/PositionJointInterface</hardwareInterface>
  </joint>
  <actuator name="arm_01_joint_02_motor">
    <hardwareInterface>hardware_interface/PositionJointInterface</hardwareInterface>
    <mechanicalReduction>1</mechanicalReduction>
  </actuator>
</transmission>

<transmission name="arm_01_joint_03_trans">
  <type>transmission_interface/SimpleTransmission</type>
  <joint name="arm_01_joint_03">
    <hardwareInterface>hardware_interface/PositionJointInterface</hardwareInterface>
  </joint>
  <actuator name="arm_01_joint_03_motor">
    <hardwareInterface>hardware_interface/PositionJointInterface</hardwareInterface>
    <mechanicalReduction>1</mechanicalReduction>
  </actuator>
</transmission>


<transmission name="arm_01_joint_04_trans">
  <type>transmission_interface/SimpleTransmission</type>
  <joint name="arm_01_joint_04">
    <hardwareInterface>hardware_interface/PositionJointInterface</hardwareInterface>
  </joint>
  <actuator name="arm_01_joint_04_motor">
    <hardwareInterface>hardware_interface/PositionJointInterface</hardwareInterface>
    <mechanicalReduction>1</mechanicalReduction>
  </actuator>
</transmission>

<transmission name="arm_01_joint_05_trans">
  <type>transmission_interface/SimpleTransmission</type>
  <joint name="arm_01_joint_05">
    <hardwareInterface>hardware_interface/PositionJointInterface</hardwareInterface>
  </joint>
  <actuator name="arm_01_joint_05_motor">
    <hardwareInterface>hardware_interface/PositionJointInterface</hardwareInterface>
    <mechanicalReduction>1</mechanicalReduction>
  </actuator>
</transmission>

<transmission name="arm_01_joint_06_trans">
  <type>transmission_interface/SimpleTransmission</type>
  <joint name="arm_01_joint_06">
    <hardwareInterface>hardware_interface/PositionJointInterface</hardwareInterface>
  </joint>
  <actuator name="arm_01_joint_06_motor">
    <hardwareInterface>hardware_interface/PositionJointInterface</hardwareInterface>
    <mechanicalReduction>1</mechanicalReduction>
  </actuator>
</transmission>




<transmission name="arm_02_joint_01_trans">
  <type>transmission_interface/SimpleTransmission</type>
  <joint name="arm_02_joint_01">
    <hardwareInterface>hardware_interface/PositionJointInterface</hardwareInterface>
  </joint>
  <actuator name="arm_02_joint_01_motor">
    <hardwareInterface>hardware_interface/PositionJointInterface</hardwareInterface>
    <mechanicalReduction>1</mechanicalReduction>
  </actuator>
</transmission>

<transmission name="arm_02_joint_02_trans">
  <type>transmission_interface/SimpleTransmission</type>
  <joint name="arm_02_joint_02">
    <hardwareInterface>hardware_interface/PositionJointInterface</hardwareInterface>
  </joint>
  <actuator name="arm_02_joint_02_motor">
    <hardwareInterface>hardware_interface/PositionJointInterface</hardwareInterface>
    <mechanicalReduction>1</mechanicalReduction>
  </actuator>
</transmission>

<transmission name="arm_02_joint_03_trans">
  <type>transmission_interface/SimpleTransmission</type>
  <joint name="arm_02_joint_03">
    <hardwareInterface>hardware_interface/PositionJointInterface</hardwareInterface>
  </joint>
  <actuator name="arm_02_joint_03_motor">
    <hardwareInterface>hardware_interface/PositionJointInterface</hardwareInterface>
    <mechanicalReduction>1</mechanicalReduction>
  </actuator>
</transmission>


<transmission name="arm_02_joint_04_trans">
  <type>transmission_interface/SimpleTransmission</type>
  <joint name="arm_02_joint_04">
    <hardwareInterface>hardware_interface/PositionJointInterface</hardwareInterface>
  </joint>
  <actuator name="arm_02_joint_04_motor">
    <hardwareInterface>hardware_interface/PositionJointInterface</hardwareInterface>
    <mechanicalReduction>1</mechanicalReduction>
  </actuator>
</transmission>

<transmission name="arm_02_joint_05_trans">
  <type>transmission_interface/SimpleTransmission</type>
  <joint name="arm_02_joint_05">
    <hardwareInterface>hardware_interface/PositionJointInterface</hardwareInterface>
  </joint>
  <actuator name="arm_02_joint_05_motor">
    <hardwareInterface>hardware_interface/PositionJointInterface</hardwareInterface>
    <mechanicalReduction>1</mechanicalReduction>
  </actuator>
</transmission>

<transmission name="arm_02_joint_06_trans">
  <type>transmission_interface/SimpleTransmission</type>
  <joint name="arm_02_joint_06">
    <hardwareInterface>hardware_interface/PositionJointInterface</hardwareInterface>
  </joint>
  <actuator name="arm_02_joint_06_motor">
    <hardwareInterface>hardware_interface/PositionJointInterface</hardwareInterface>
    <mechanicalReduction>1</mechanicalReduction>
  </actuator>
</transmission>



<transmission name="arm_03_joint_01_trans">
  <type>transmission_interface/SimpleTransmission</type>
  <joint name="arm_03_joint_01">
    <hardwareInterface>hardware_interface/PositionJointInterface</hardwareInterface>
  </joint>
  <actuator name="arm_03_joint_01_motor">
    <hardwareInterface>hardware_interface/PositionJointInterface</hardwareInterface>
    <mechanicalReduction>1</mechanicalReduction>
  </actuator>
</transmission>

<transmission name="arm_03_joint_02_trans">
  <type>transmission_interface/SimpleTransmission</type>
  <joint name="arm_03_joint_02">
    <hardwareInterface>hardware_interface/PositionJointInterface</hardwareInterface>
  </joint>
  <actuator name="arm_03_joint_02_motor">
    <hardwareInterface>hardware_interface/PositionJointInterface</hardwareInterface>
    <mechanicalReduction>1</mechanicalReduction>
  </actuator>
</transmission>

<transmission name="arm_03_joint_03_trans">
  <type>transmission_interface/SimpleTransmission</type>
  <joint name="arm_03_joint_03">
    <hardwareInterface>hardware_interface/PositionJointInterface</hardwareInterface>
  </joint>
  <actuator name="arm_03_joint_03_motor">
    <hardwareInterface>hardware_interface/PositionJointInterface</hardwareInterface>
    <mechanicalReduction>1</mechanicalReduction>
  </actuator>
</transmission>


<transmission name="arm_03_joint_04_trans">
  <type>transmission_interface/SimpleTransmission</type>
  <joint name="arm_03_joint_04">
    <hardwareInterface>hardware_interface/PositionJointInterface</hardwareInterface>
  </joint>
  <actuator name="arm_03_joint_04_motor">
    <hardwareInterface>hardware_interface/PositionJointInterface</hardwareInterface>
    <mechanicalReduction>1</mechanicalReduction>
  </actuator>
</transmission>

<transmission name="arm_03_joint_05_trans">
  <type>transmission_interface/SimpleTransmission</type>
  <joint name="arm_03_joint_05">
    <hardwareInterface>hardware_interface/PositionJointInterface</hardwareInterface>
  </joint>
  <actuator name="arm_03_joint_05_motor">
    <hardwareInterface>hardware_interface/PositionJointInterface</hardwareInterface>
    <mechanicalReduction>1</mechanicalReduction>
  </actuator>
</transmission>

<transmission name="arm_03_joint_06_trans">
  <type>transmission_interface/SimpleTransmission</type>
  <joint name="arm_03_joint_06">
    <hardwareInterface>hardware_interface/PositionJointInterface</hardwareInterface>
  </joint>
  <actuator name="arm_03_joint_06_motor">
    <hardwareInterface>hardware_interface/PositionJointInterface</hardwareInterface>
    <mechanicalReduction>1</mechanicalReduction>
  </actuator>
</transmission> -->
    <!-- 
<gazebo>
  <plugin name="control" filename="libgazebo_ros_control.so">
    <robotNamespace>/</robotNamespace>
  </plugin>
</gazebo>


<gazebo reference="arm_01_joint_01">
  <selfCollide>true</selfCollide>
</gazebo>

<gazebo reference="arm_01_joint_02">
  <selfCollide>true</selfCollide>
</gazebo>

<gazebo reference="arm_01_joint_03">
  <selfCollide>true</selfCollide>
</gazebo>

<gazebo reference="arm_01_joint_04">
  <selfCollide>true</selfCollide>
</gazebo>

<gazebo reference="arm_01_joint_05">
  <selfCollide>true</selfCollide>
</gazebo>

<gazebo reference="arm_01_joint_06">
  <selfCollide>true</selfCollide>
</gazebo>



<gazebo reference="arm_02_joint_01">
  <selfCollide>true</selfCollide>
</gazebo>

<gazebo reference="arm_02_joint_02">
  <selfCollide>true</selfCollide>
</gazebo>

<gazebo reference="arm_02_joint_03">
  <selfCollide>true</selfCollide>
</gazebo>

<gazebo reference="arm_02_joint_04">
  <selfCollide>true</selfCollide>
</gazebo>

<gazebo reference="arm_02_joint_05">
  <selfCollide>true</selfCollide>
</gazebo>

<gazebo reference="arm_02_joint_06">
  <selfCollide>true</selfCollide>
</gazebo>



<gazebo reference="arm_03_joint_01">
  <selfCollide>true</selfCollide>
</gazebo>

<gazebo reference="arm_03_joint_02">
  <selfCollide>true</selfCollide>
</gazebo>

<gazebo reference="arm_03_joint_03">
  <selfCollide>true</selfCollide>
</gazebo>

<gazebo reference="arm_03_joint_04">
  <selfCollide>true</selfCollide>
</gazebo>

<gazebo reference="arm_03_joint_05">
  <selfCollide>true</selfCollide>
</gazebo>

<gazebo reference="arm_03_joint_06">
  <selfCollide>true</selfCollide>
</gazebo> -->
</robot>
